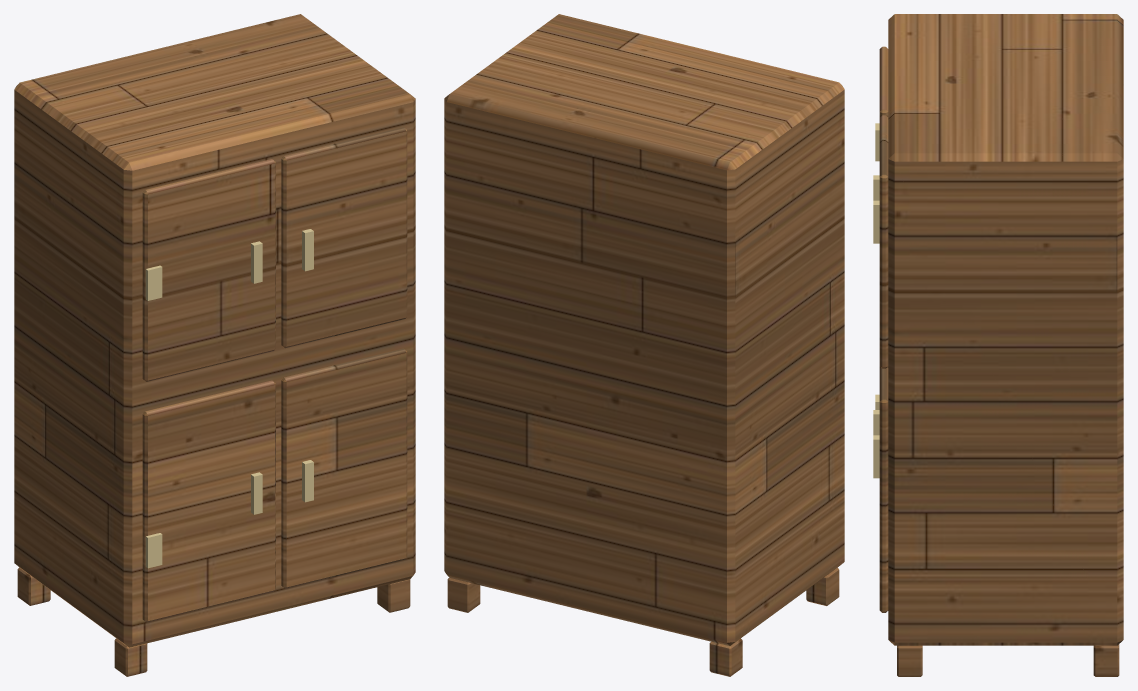
The model's file is icebox.glb.
3 renders of one model, left to right at view 1: azimuth 30°, elevation 25°; view 2: azimuth 150°, elevation 25°; view 3: azimuth 270°, elevation 25°, orthographic.
Visible parts, largest first — view 1: icebox_wood, icebox_brass; view 2: icebox_wood; view 3: icebox_wood, icebox_brass.
Part boxes in pixels (bbox=[...]): icebox_wood: bbox=[14, 14, 415, 676]; icebox_brass: bbox=[145, 229, 313, 568]; icebox_wood: bbox=[444, 14, 844, 676]; icebox_wood: bbox=[879, 14, 1123, 676]; icebox_brass: bbox=[873, 123, 879, 478].
Bounding box in the file's own units: 0.8 × 1.35 × 0.585.
Materials: 2 (1 with a texture image).
